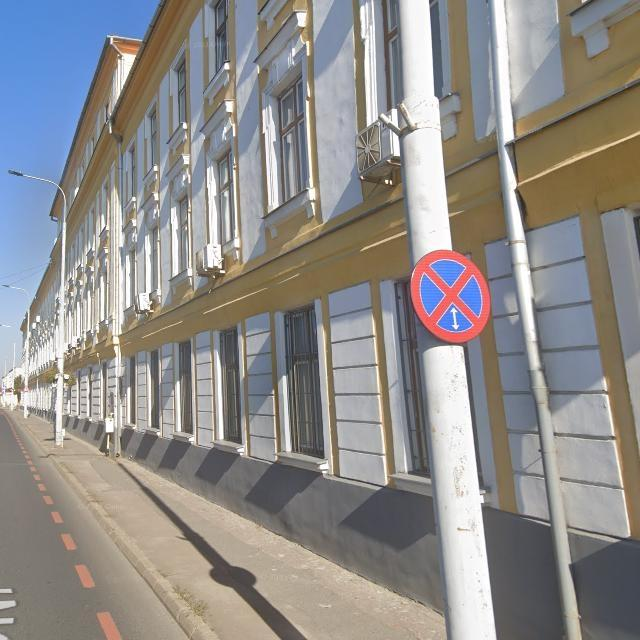forb_waiting: (410, 250, 493, 344)
